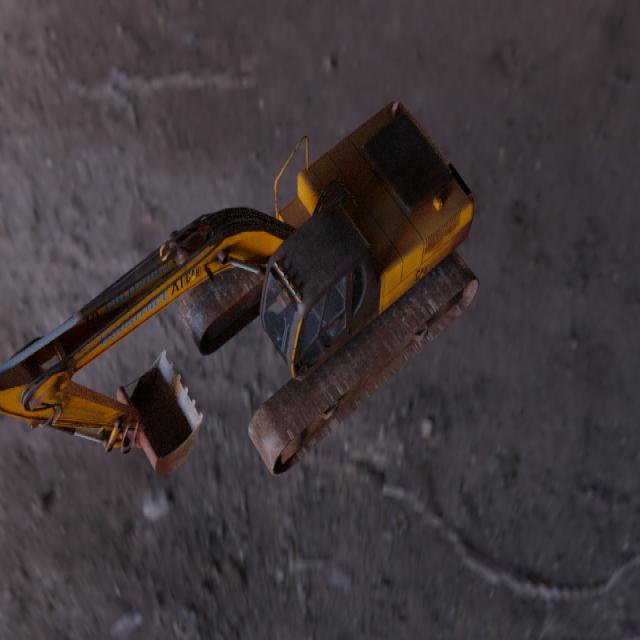excavator: (0, 99, 480, 476)
